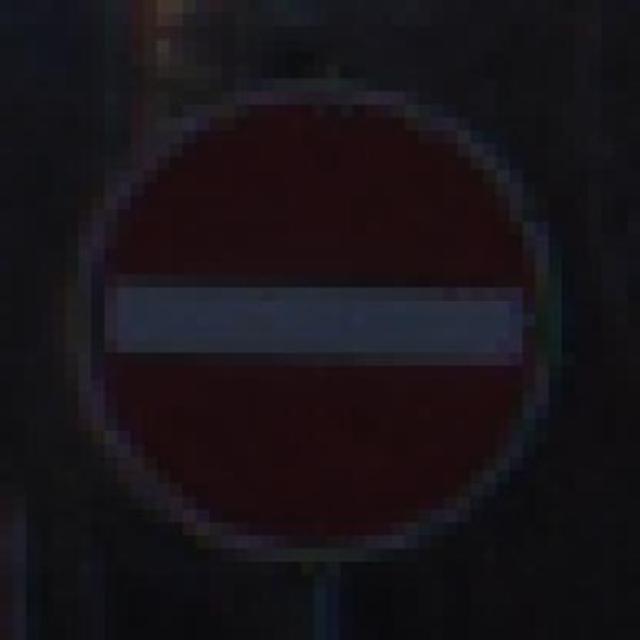No Entry: (39, 91, 575, 548)
